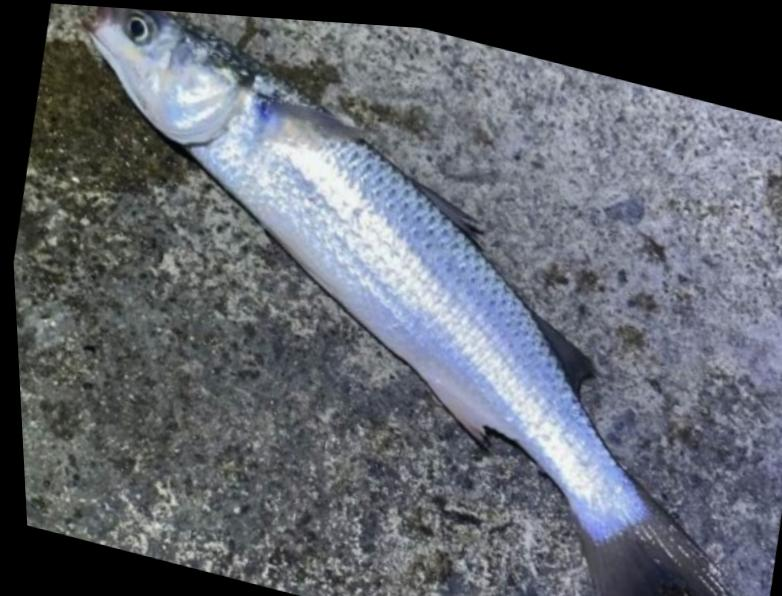fish: (83, 5, 731, 596)
